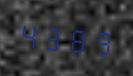eight: (66, 20, 89, 57)
four: (18, 15, 41, 53)
nine: (90, 22, 113, 60)
three: (42, 17, 65, 55)
